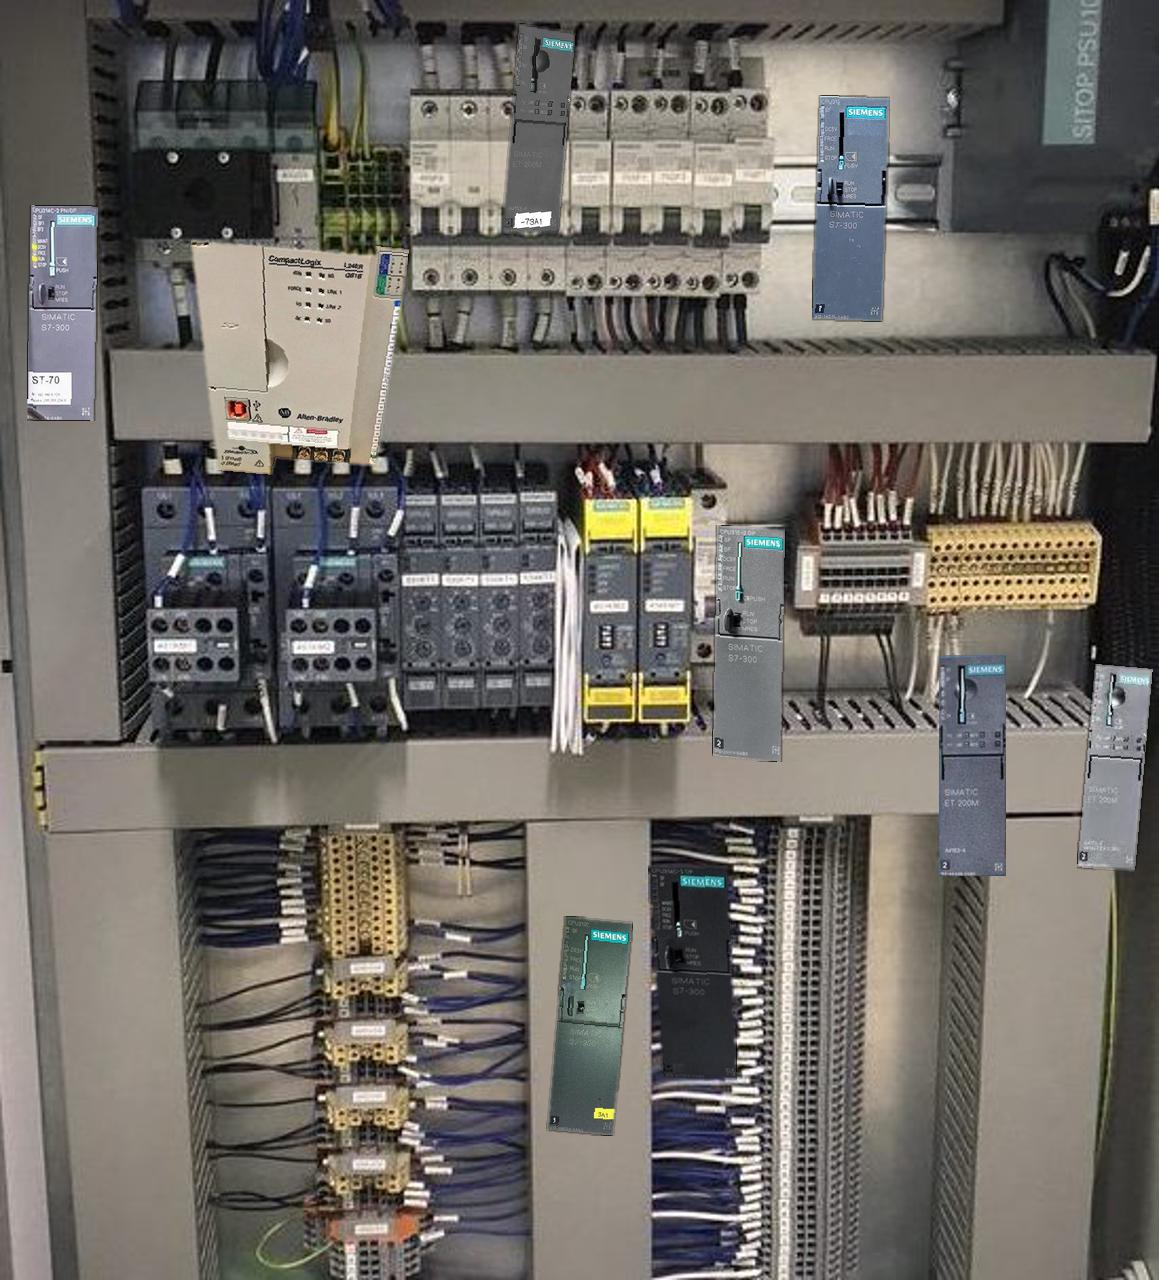AllenBradley: (191, 241, 408, 474)
Siemens: (648, 866, 736, 1078), (548, 917, 631, 1134), (812, 96, 888, 320), (713, 525, 784, 762), (27, 205, 96, 420)
